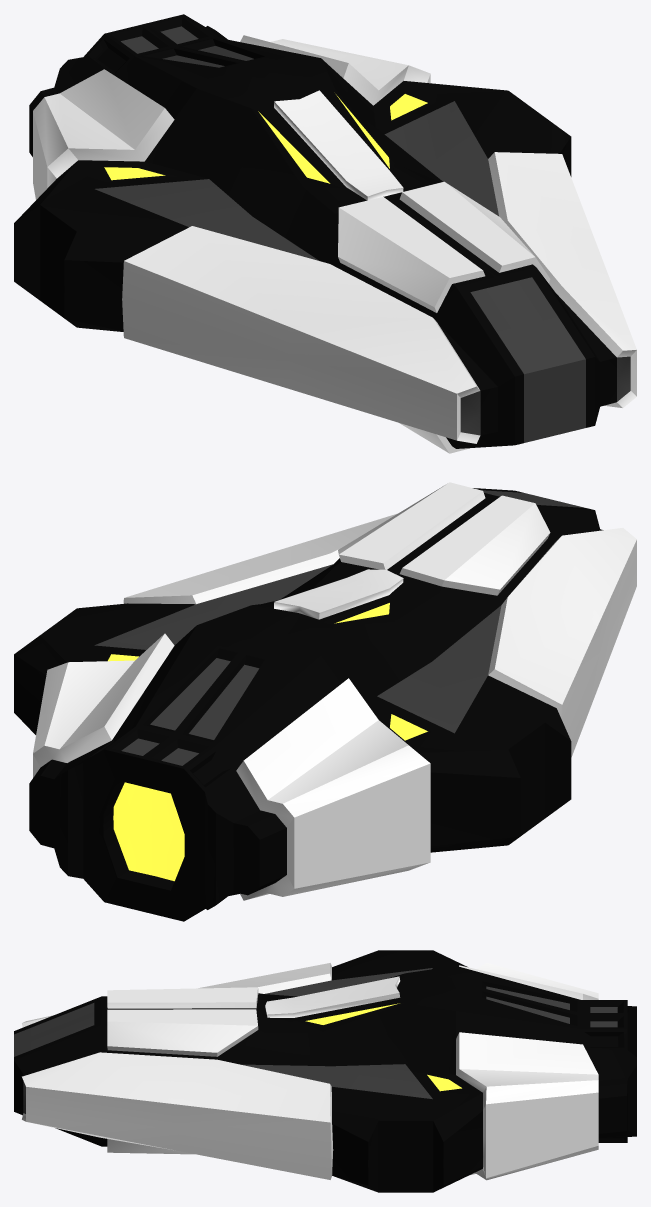
Rendered from 01_ship_medium_alkanador.glb.
3 views of the same model, one above another, from view 1: azimuth 30°, elevation 25°; view 2: azimuth 150°, elevation 25°; view 3: azimuth 270°, elevation 25° (orthographic). The views are drawn at different scales.
Parts seen in each view (by area): view 1: 01_ship_medium_alkanador; view 2: 01_ship_medium_alkanador; view 3: 01_ship_medium_alkanador.
Part boxes in pixels (x1,y1,x2,y2): 01_ship_medium_alkanador: (14, 14, 636, 453); 01_ship_medium_alkanador: (14, 482, 636, 921); 01_ship_medium_alkanador: (14, 950, 636, 1192).
Bounding box in the file's own units: 0.7076 × 0.3106 × 1.01.
